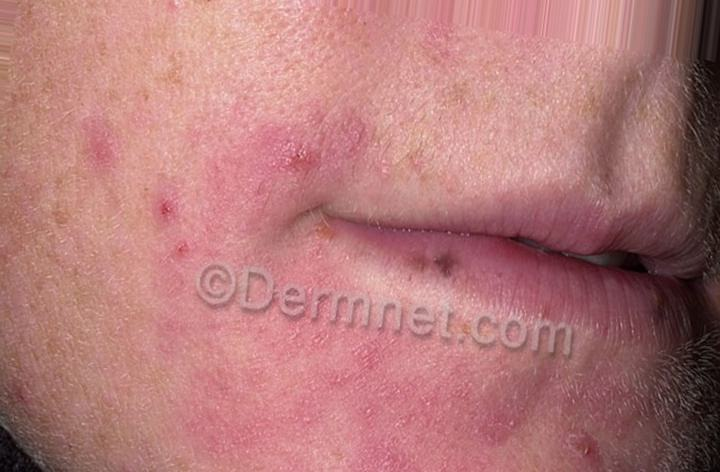Acne: (67, 110, 626, 435)
